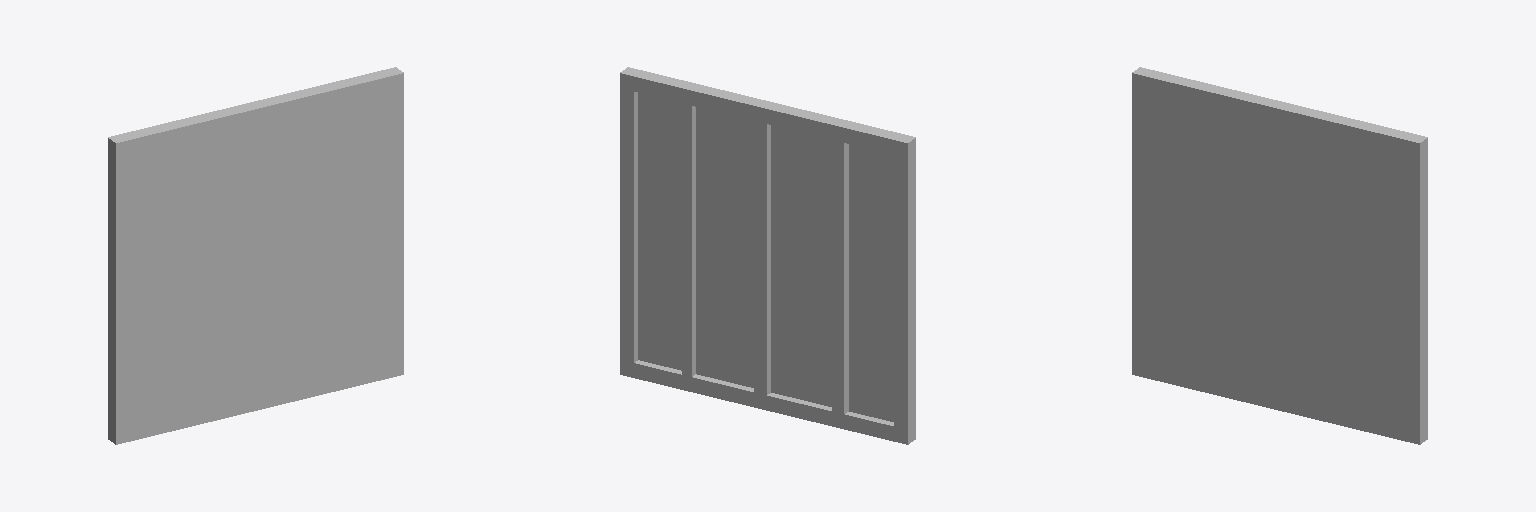
File: wall.obj
The picture shows the model from 3 angles: view 1: azimuth 30°, elevation 25°; view 2: azimuth 150°, elevation 25°; view 3: azimuth 330°, elevation 25°; orthographic projection.
Visible parts, largest first — view 1: Cube; view 2: Cube; view 3: Cube.
Part boxes in pixels (x1,y1,x2,y2): Cube: (108,67,403,444); Cube: (620,67,915,444); Cube: (1132,67,1427,444).
Bounding box in the file's own units: 2 × 2 × 0.1.